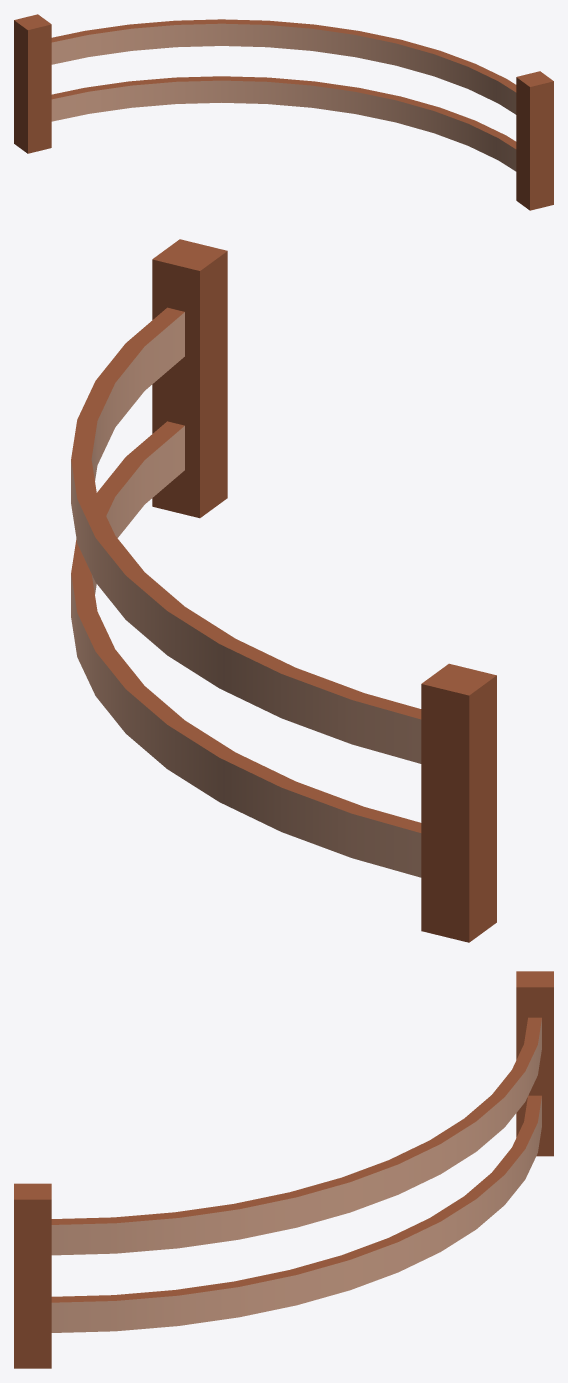
Rendered from fence_bend.glb.
3 renders of one model, top to bottom at view 1: azimuth 30°, elevation 25°; view 2: azimuth 150°, elevation 25°; view 3: azimuth 270°, elevation 25°, orthographic. The views are drawn at different scales.
Parts seen in each view (by area): view 1: fence_bend; view 2: fence_bend; view 3: fence_bend.
Boxes of the visible parts, box(x1,y1,x2,y2) form: fence_bend: box(14, 14, 553, 210); fence_bend: box(71, 239, 496, 942); fence_bend: box(14, 971, 553, 1368).
Size of the model in its own units: 1 by 0.345 by 1.
